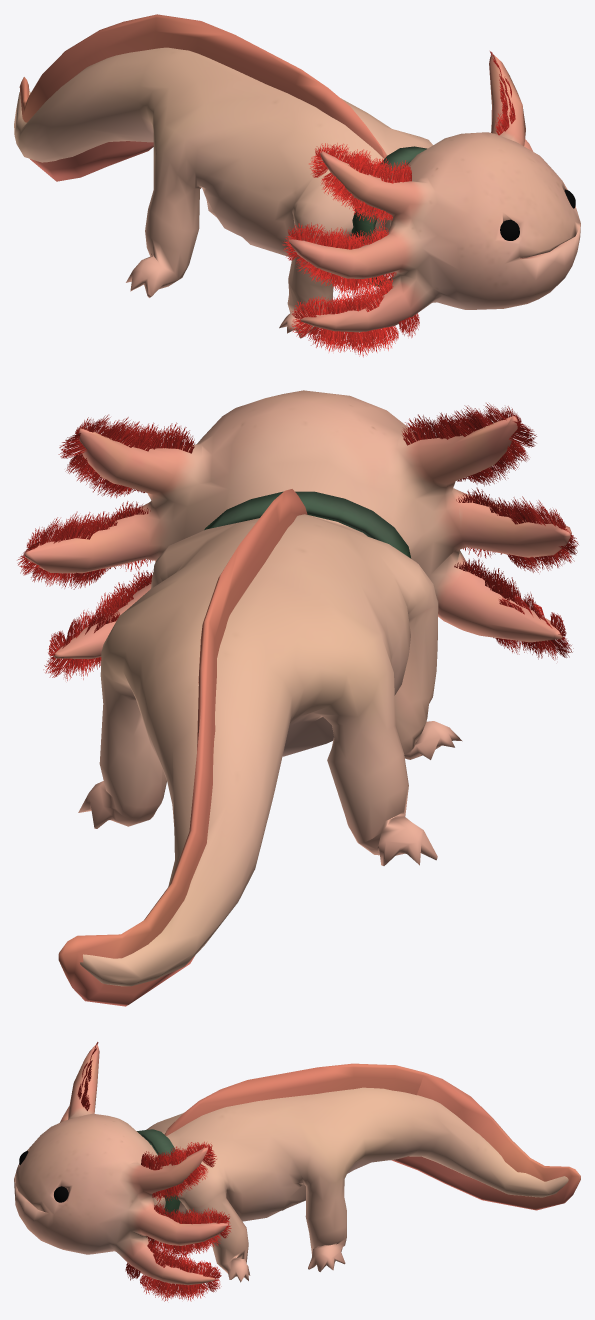
The model's file is axolotl.glb.
3 views of the same model, one above another, from view 1: azimuth 30°, elevation 25°; view 2: azimuth 150°, elevation 25°; view 3: azimuth 270°, elevation 25° (orthographic). The views are drawn at different scales.
Parts seen in each view (by area): view 1: Axy_3, Collar_69, Eyes_4; view 2: Axy_3, Collar_69; view 3: Axy_3, Collar_69.
Boxes of the visible parts, x1,y1,x2,y2 form: Axy_3: (14,14,580,357); Collar_69: (351,146,427,287); Eyes_4: (500,189,575,240); Axy_3: (17,390,578,1006); Collar_69: (204,491,411,558); Axy_3: (14,1042,580,1301); Collar_69: (137,1129,180,1243).
Size of the model in its own units: 4.35 by 2.77 by 8.01.
4 materials, 3 textured.
